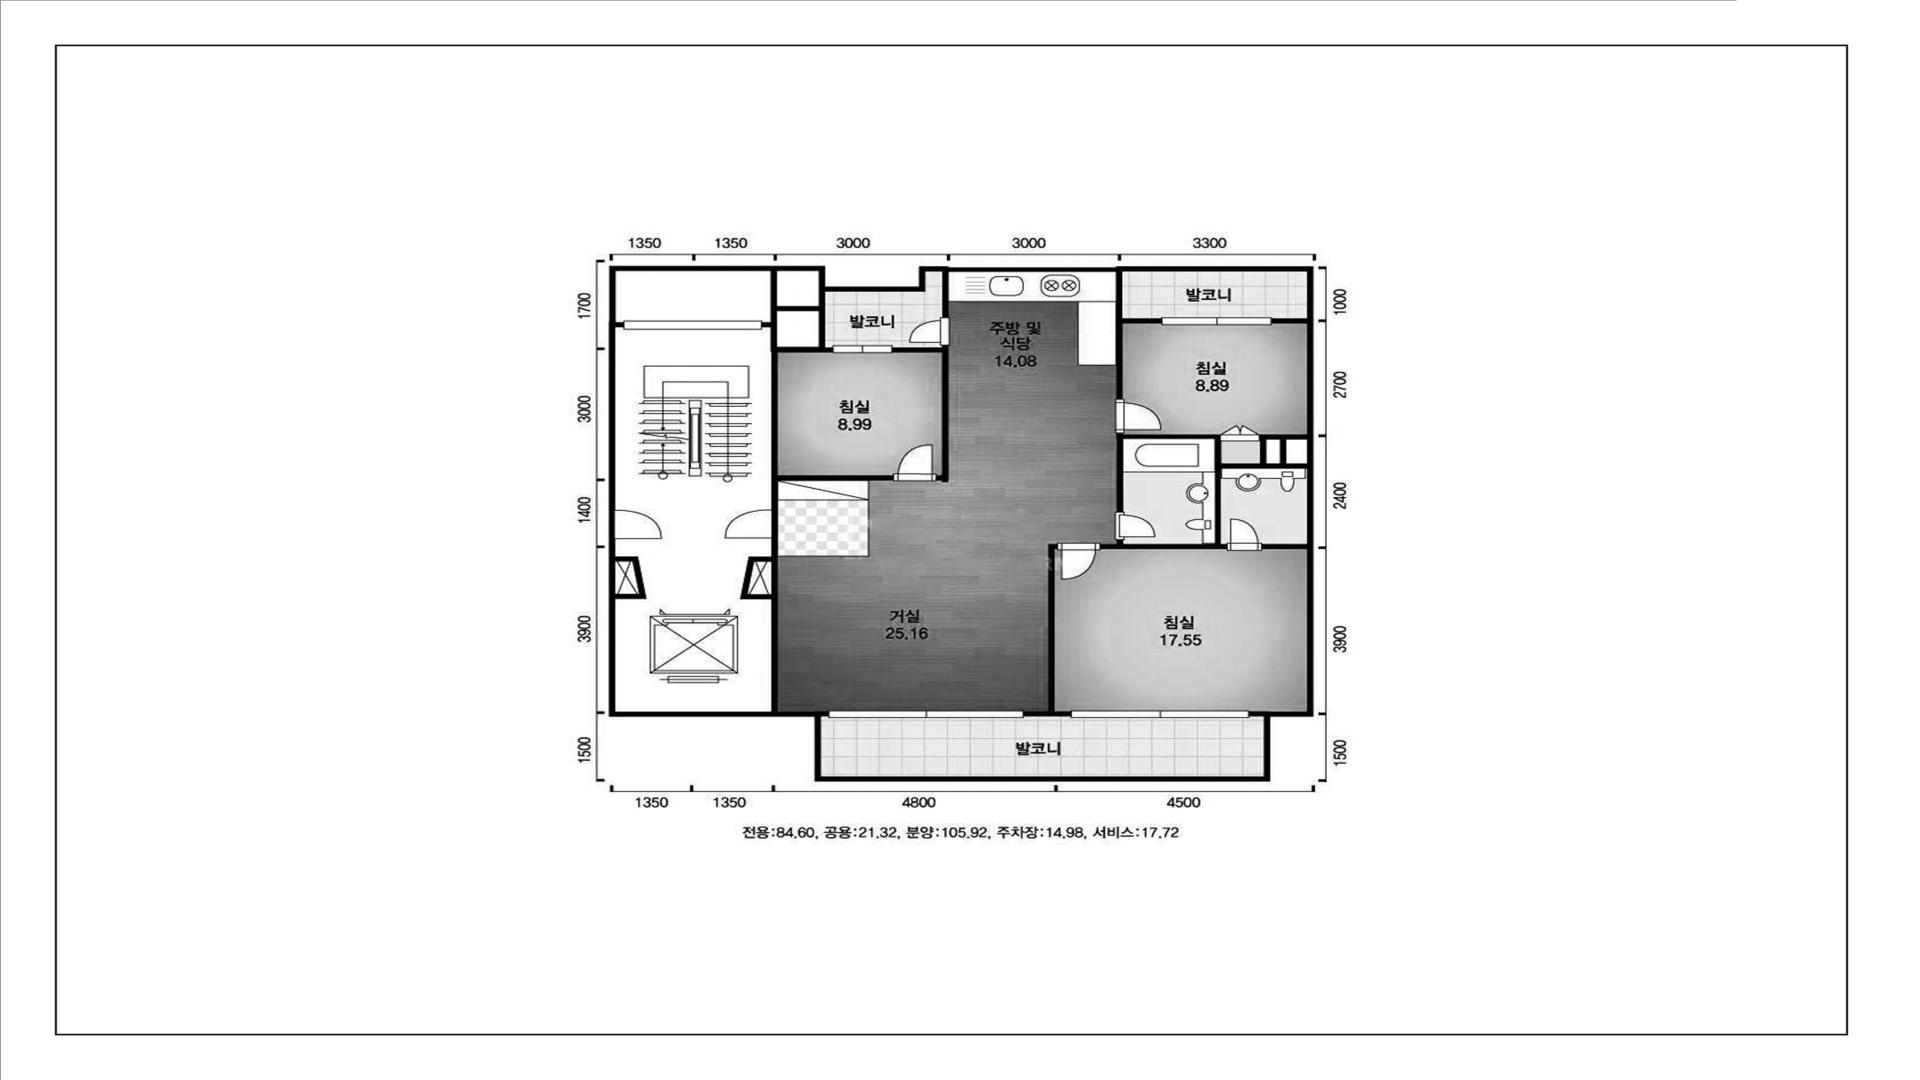door: (1056, 542, 1101, 580), (891, 444, 936, 483), (1114, 398, 1162, 434), (624, 320, 762, 331), (1225, 518, 1262, 551), (1114, 512, 1155, 541), (909, 318, 949, 345), (1221, 426, 1259, 440)
wall: (609, 266, 1313, 782), (770, 270, 891, 712), (1101, 434, 1307, 550), (1025, 543, 1071, 716), (893, 345, 948, 481), (1116, 272, 1162, 400), (615, 556, 647, 600), (1259, 434, 1307, 463), (740, 556, 771, 600), (942, 272, 949, 318), (1262, 545, 1307, 550), (1271, 318, 1307, 323), (608, 700, 616, 712), (616, 322, 624, 327), (762, 322, 770, 327), (820, 712, 828, 716)
window: (828, 709, 1025, 719), (1071, 709, 1249, 719), (1160, 316, 1273, 326), (833, 345, 893, 353)
